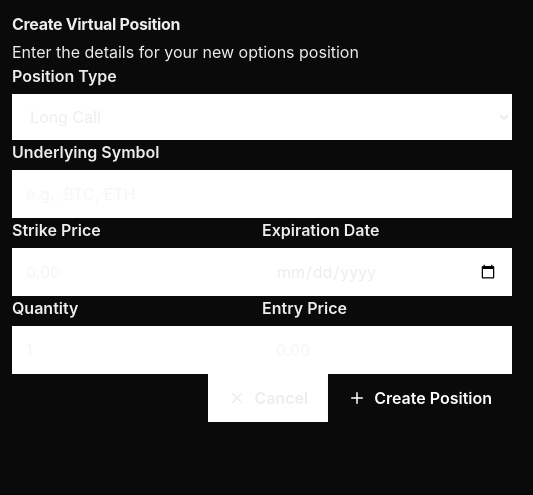
it: CreatePositionForm › validates that expiration date must be in the future
Type "2020-01-01" into the date field labelled "Expiration Date" at coordinates (387, 272), box [262,248,512,296]
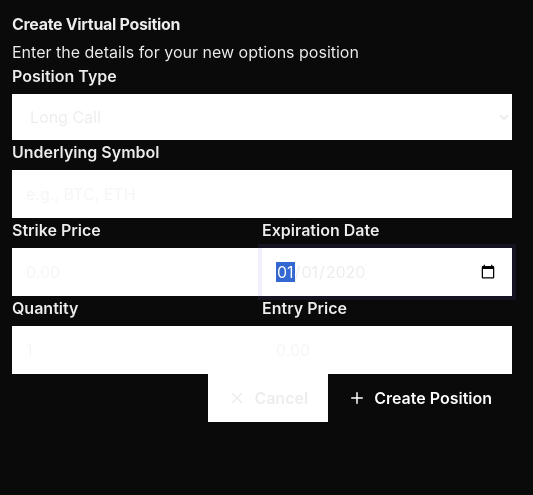
Leave the date field labelled "Expiration Date", box [262,248,512,296]
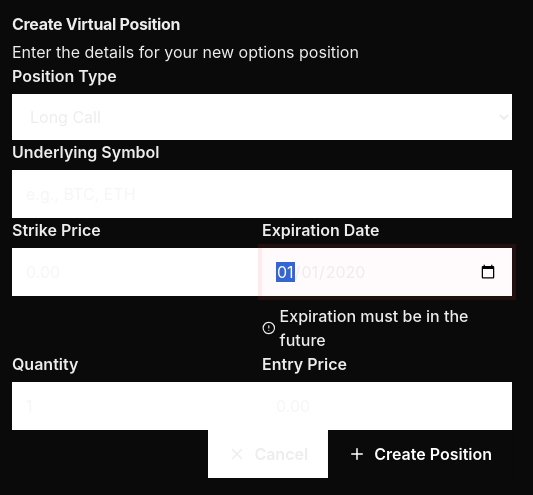
Now the text "Expiration must be in the future" is shown, box [262,306,468,350]
